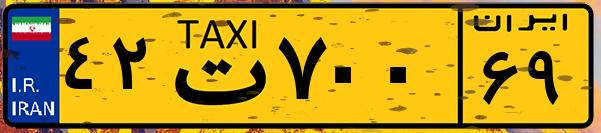0: (385, 28, 445, 110), (330, 28, 385, 110)
2: (110, 28, 158, 98)
4: (57, 26, 110, 100)
6: (475, 38, 525, 113)
7: (270, 28, 330, 110)
9: (525, 38, 570, 115)
ت: (158, 12, 270, 120)
